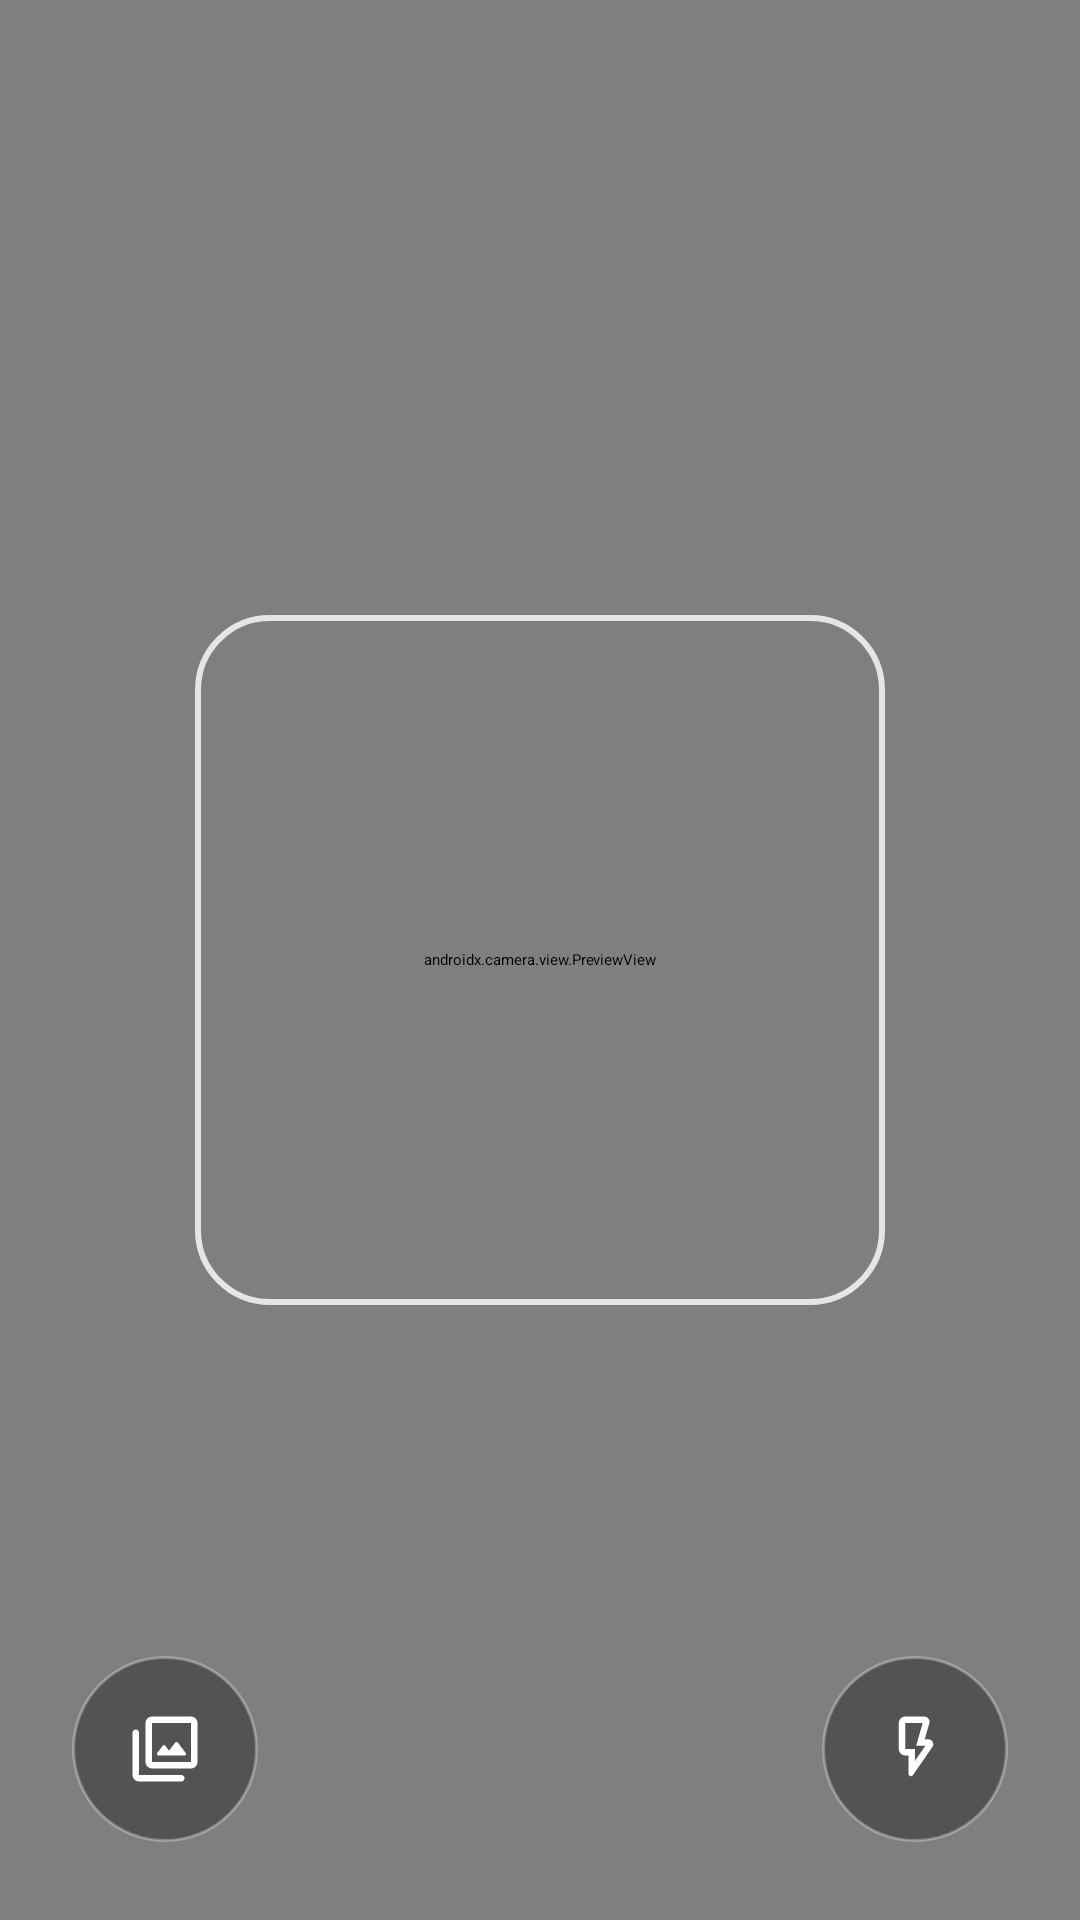

Screen size 1080px×1920px. Icon name, then its center in pixels as [x,y]:
Scan from gallery: [165,1749]
Torch: [915,1749]
